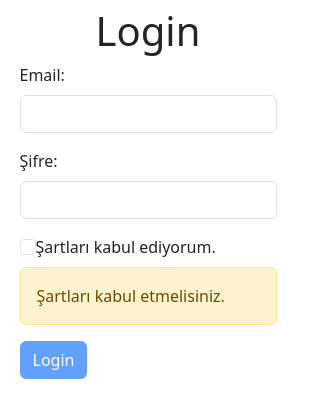
it: hata mesajları › form doğru şekilde doldurunca form enabled oluyor
The image size is (320, 396).
Type "mehmet@gmail.com" into the field with id "email".
click(149, 114); type("mehmet@gmail.com")  # box [20, 95, 277, 133]
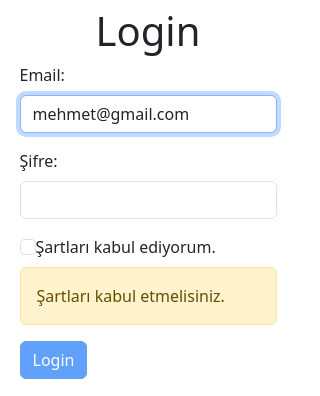
Type "sjhD617897!" into the password field labelled "Şifre:".
click(149, 200); type("sjhD617897!")  # box [20, 181, 277, 219]
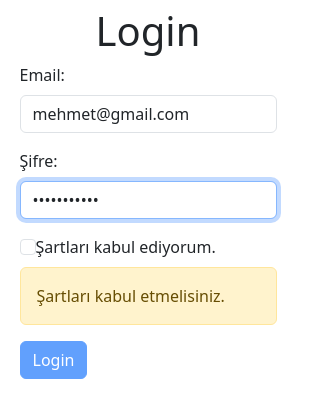
Check the checkbox with test id "terms".
click(28, 247)  # box [20, 239, 36, 255]
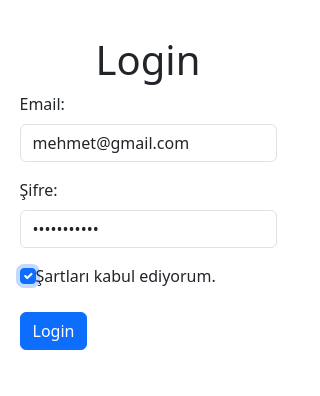
Expected: the button with test id "submit-button" is enabled, [20, 312, 88, 350]
